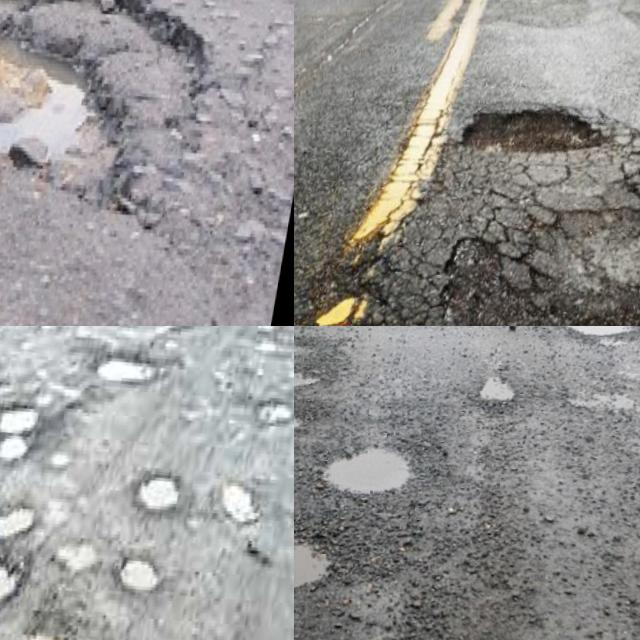Potholes: (0, 0, 279, 302), (364, 132, 640, 326), (427, 31, 640, 218), (294, 410, 469, 553), (77, 454, 204, 640), (0, 371, 85, 568), (294, 459, 387, 638), (294, 574, 526, 640), (436, 344, 581, 449), (55, 327, 176, 431), (294, 326, 372, 452), (194, 455, 275, 551), (505, 326, 640, 374), (294, 341, 335, 486), (0, 520, 51, 627), (240, 382, 294, 470), (233, 326, 294, 380), (129, 326, 221, 354)
